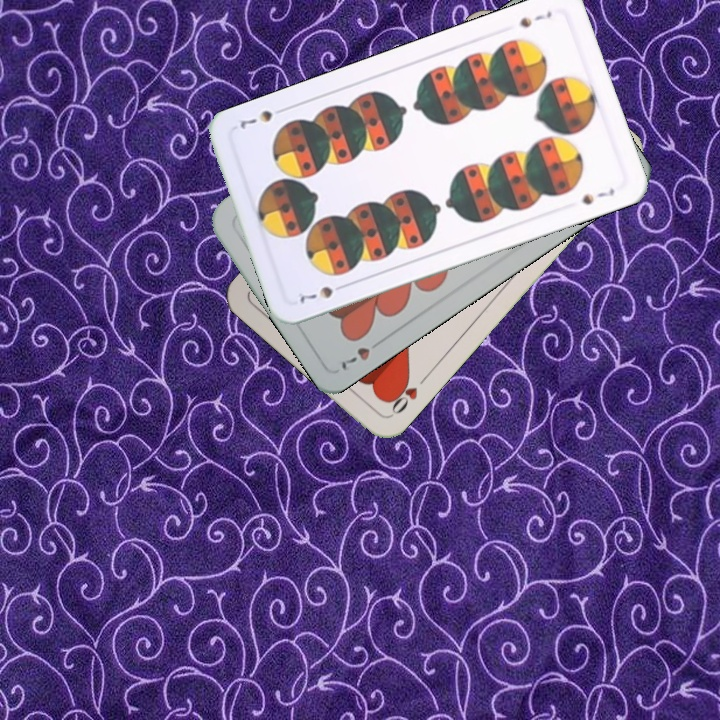H7: (335, 334, 387, 374)
HO: (383, 370, 431, 418)
S7: (295, 279, 350, 305), (516, 6, 555, 30)
